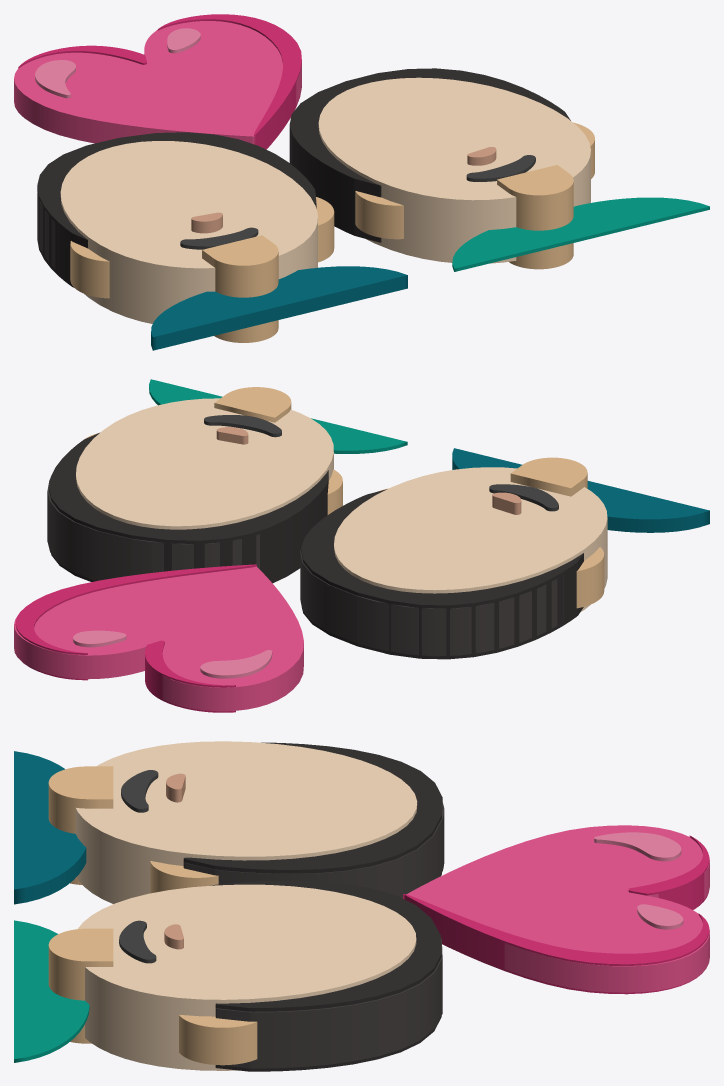
File: emoji_u1f468_1f3fb_200d_2764_200d_1f468_1f3fb.glb
3 renders of one model, top to bottom at view 1: azimuth 30°, elevation 25°; view 2: azimuth 150°, elevation 25°; view 3: azimuth 270°, elevation 25°, orthographic. The views are drawn at different scales.
Parts seen in each view (by area): view 1: emoji_u1f468_1f3fb_200d_2764_200d_1f468_1f3fb; view 2: emoji_u1f468_1f3fb_200d_2764_200d_1f468_1f3fb; view 3: emoji_u1f468_1f3fb_200d_2764_200d_1f468_1f3fb.
Part boxes in pixels (x1,y1,x2,y2): emoji_u1f468_1f3fb_200d_2764_200d_1f468_1f3fb: (14, 14, 709, 350); emoji_u1f468_1f3fb_200d_2764_200d_1f468_1f3fb: (14, 379, 709, 712); emoji_u1f468_1f3fb_200d_2764_200d_1f468_1f3fb: (14, 741, 709, 1071).
Bounding box in the file's own units: 0.0347 × 0.005 × 0.0337.
